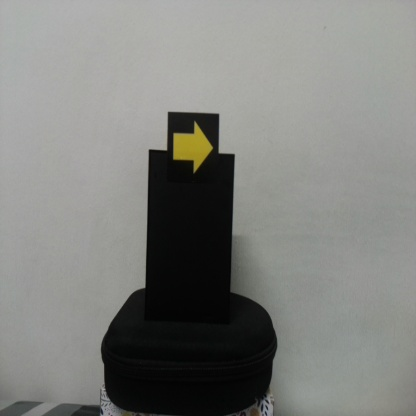id_3: (168, 112, 220, 185)
